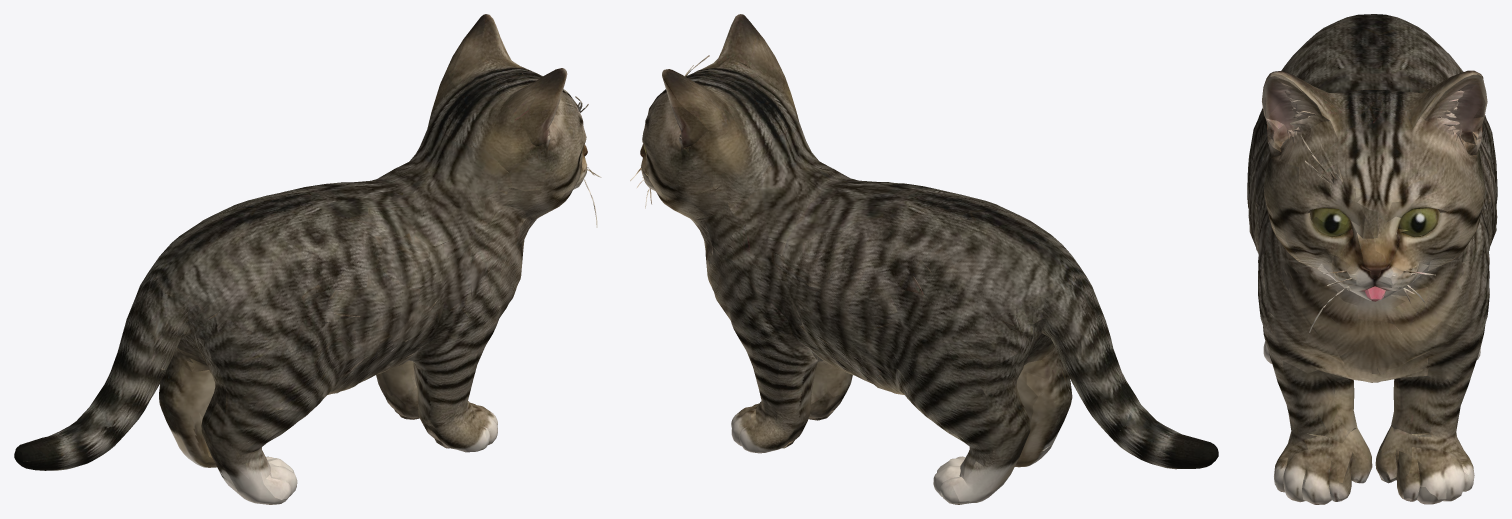
The model's file is LILBUBCAT.glb.
3 renders of one model, left to right at view 1: azimuth 30°, elevation 25°; view 2: azimuth 150°, elevation 25°; view 3: azimuth 270°, elevation 25°, orthographic. The views are drawn at different scales.
Visible parts, largest first — view 1: fit; view 2: fit; view 3: fit.
Boxes of the visible parts, bbox=[...] form: fit: bbox=[14, 14, 601, 504]; fit: bbox=[630, 14, 1218, 504]; fit: bbox=[1247, 14, 1497, 504].
Bounding box in the file's own units: 1.65 × 1 × 0.4811.
1 material, 1 textured.
